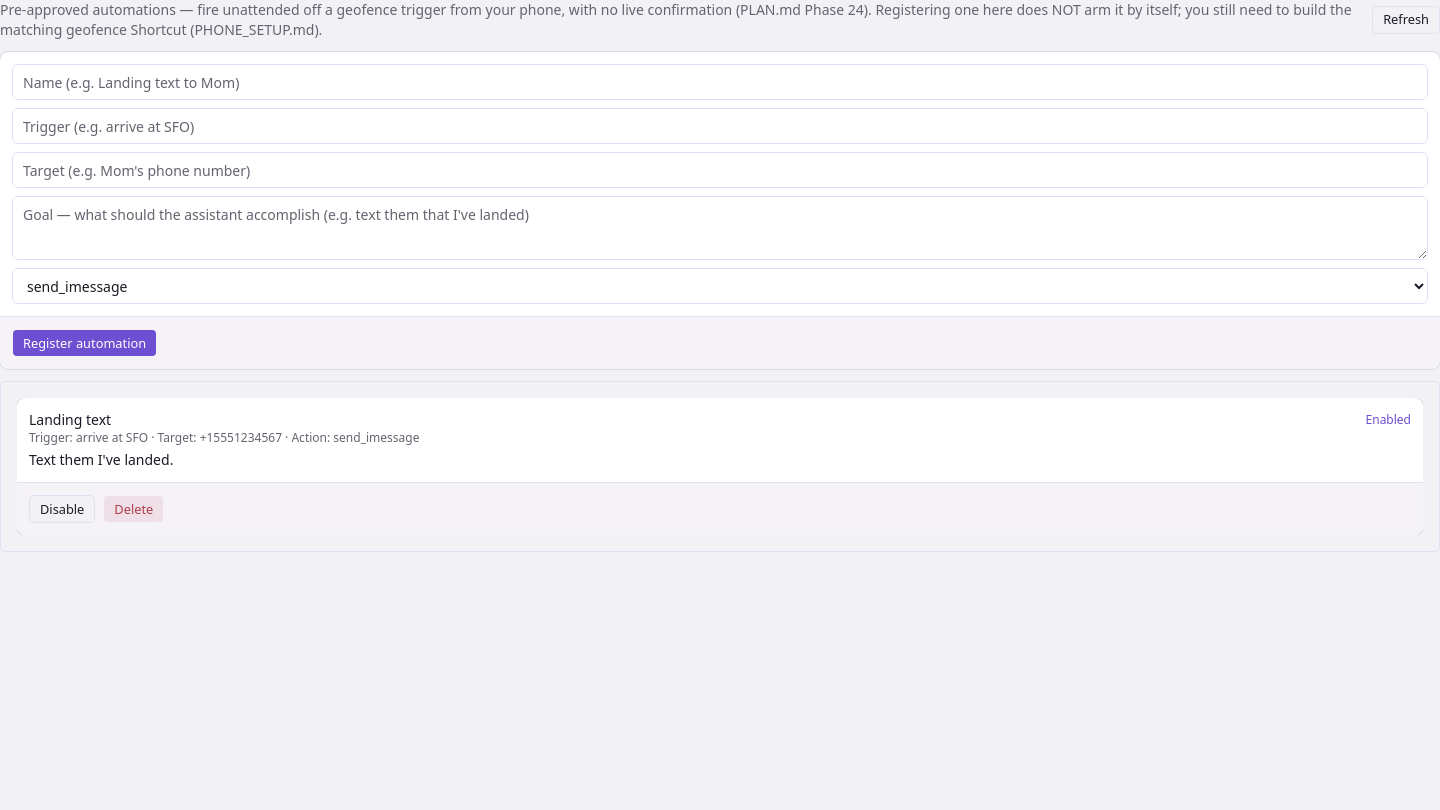
Test: AutomationsPanel › requires confirmation before deleting
expect the text "Landing text" is shown: met, box [29,410,111,430]
Click the button "Delete".
click(134, 509)  # box [103,495,164,523]
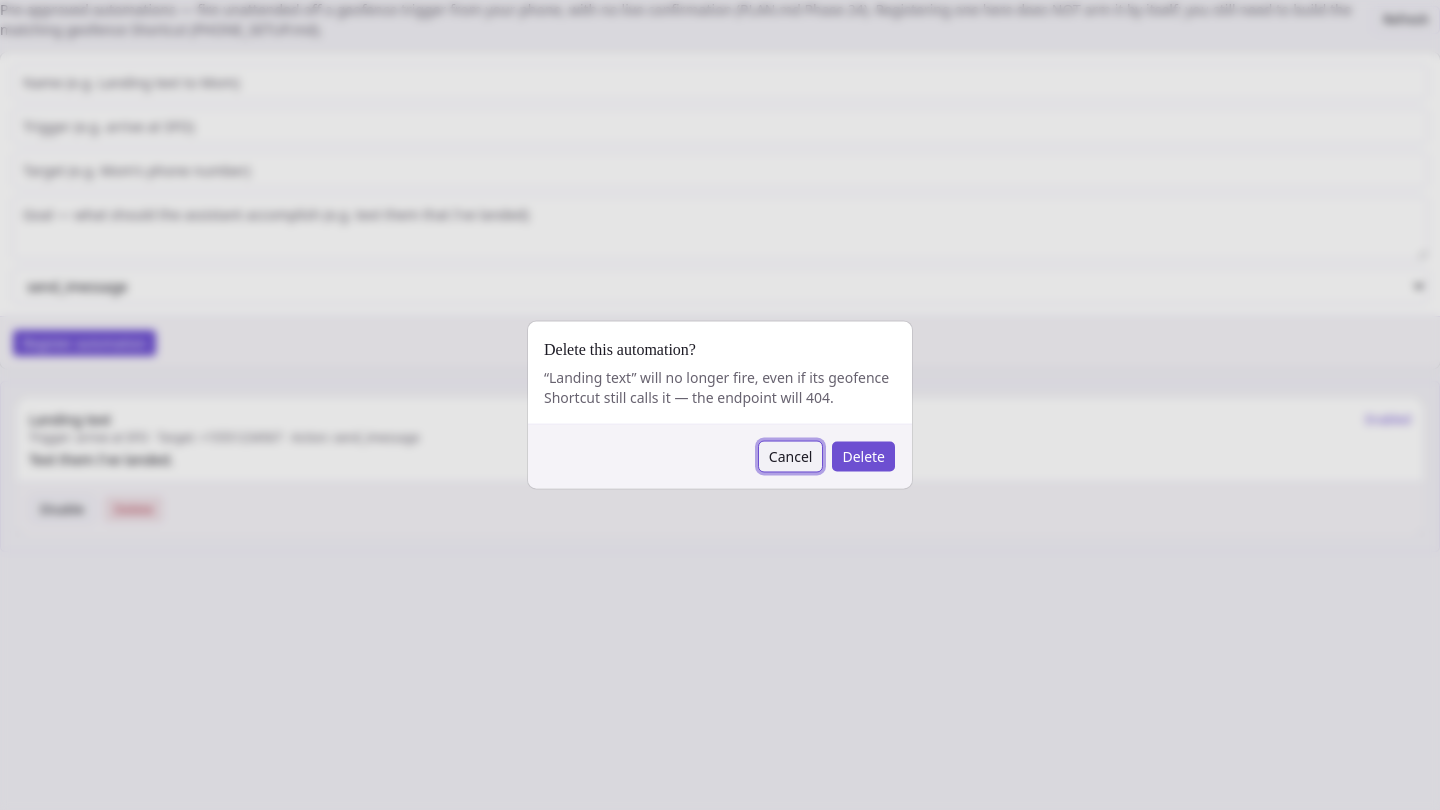
expect the dialog is shown: met, box [528,322,912,488]
